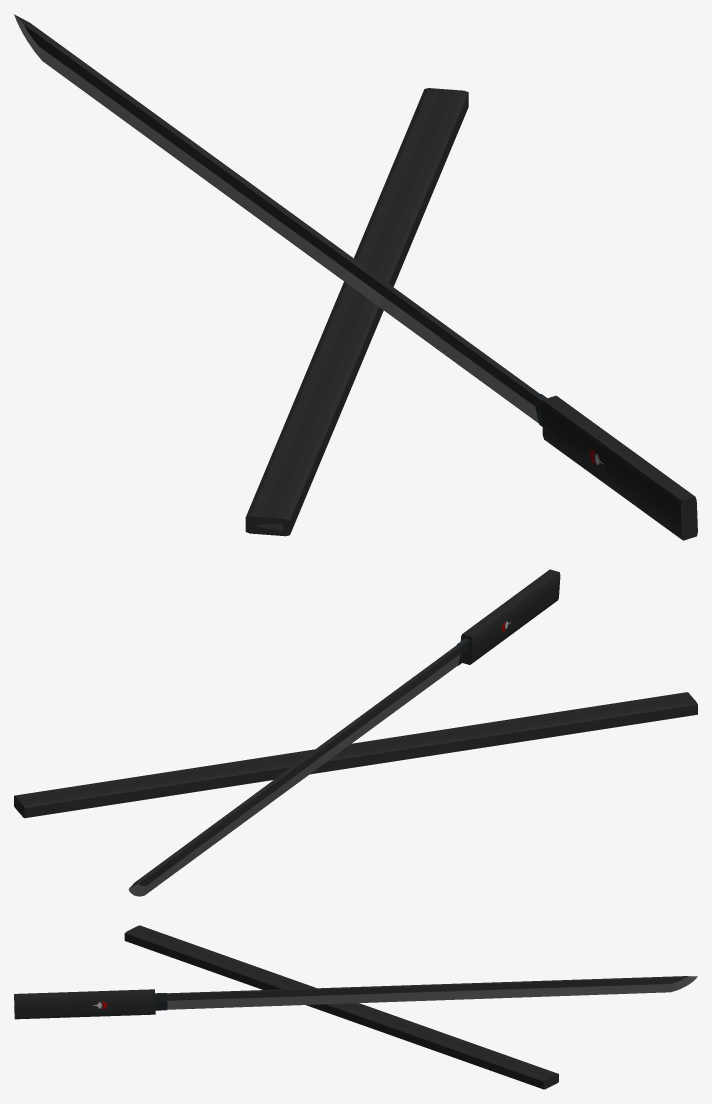
The model's file is sasuke sword.glb.
The picture shows the model from 3 angles, top to bottom: view 1: azimuth 30°, elevation 25°; view 2: azimuth 150°, elevation 25°; view 3: azimuth 270°, elevation 25°; orthographic projection. The views are drawn at different scales.
Visible parts, largest first — view 1: Object_2; view 2: Object_2; view 3: Object_2.
Part boxes in pixels (bbox=[...]): Object_2: bbox=[14, 14, 697, 540]; Object_2: bbox=[14, 569, 697, 896]; Object_2: bbox=[14, 925, 697, 1089].
Bounding box in the file's own units: 2.15 × 0.2149 × 3.97.
Materials: 1 (1 with a texture image).
